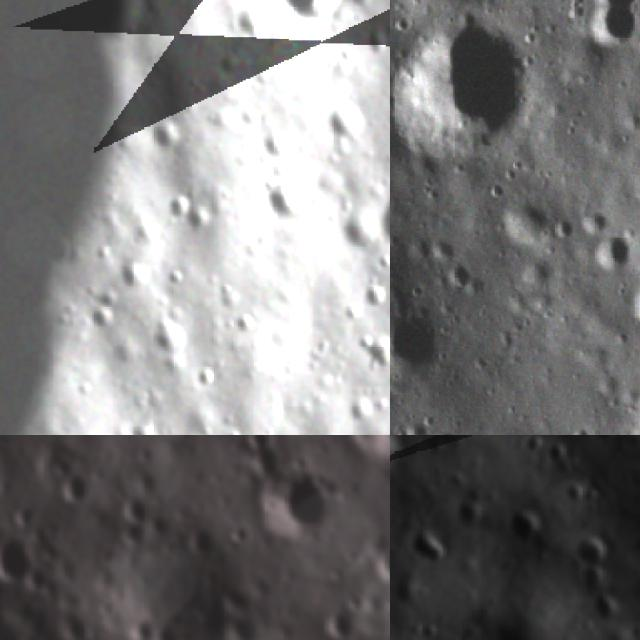crater: (390, 15, 535, 161), (260, 470, 340, 532), (390, 306, 447, 377), (494, 197, 554, 250), (589, 5, 640, 54), (406, 523, 453, 575), (266, 172, 312, 224), (277, 0, 350, 32), (50, 450, 84, 515), (587, 232, 631, 277), (0, 533, 35, 585), (502, 507, 543, 551), (567, 536, 623, 566), (422, 229, 461, 269), (150, 320, 197, 353), (329, 103, 367, 142), (358, 331, 390, 375), (372, 187, 390, 264), (319, 609, 361, 640), (148, 120, 184, 153), (124, 496, 160, 529), (443, 262, 475, 299), (160, 191, 192, 227), (395, 406, 432, 435), (85, 306, 123, 333), (344, 392, 377, 422), (550, 210, 579, 244), (119, 264, 153, 292), (625, 278, 640, 332), (390, 435, 405, 488), (359, 281, 390, 306), (191, 367, 222, 391), (230, 313, 260, 337), (240, 435, 274, 453), (232, 518, 252, 546), (95, 290, 129, 306), (97, 597, 118, 622), (192, 204, 210, 233), (76, 376, 97, 400), (378, 541, 390, 582), (217, 279, 240, 300), (136, 619, 158, 640), (129, 419, 157, 435), (169, 269, 189, 290), (345, 302, 363, 325), (376, 250, 390, 270), (429, 427, 462, 435)
